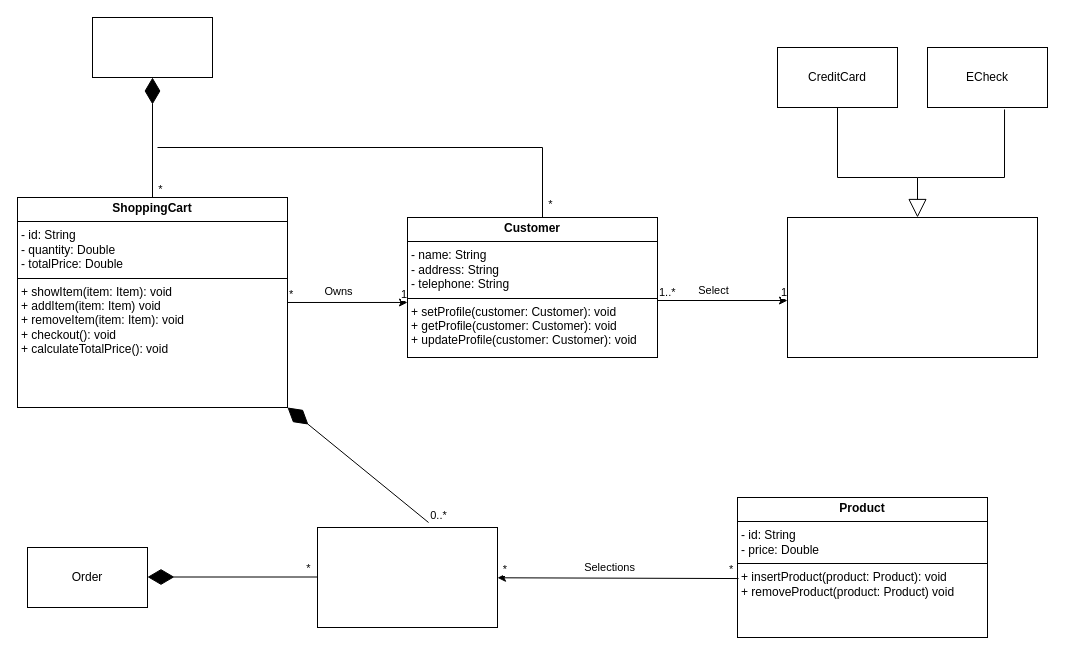
The diagram is 1065 pixels wide and 655 high, and some of its shapes have lost their labels. The shapes that lost their labels are listed below. From the top down, each one's centre as x and y in pixels, then its label:
[152,47]: ShoppingProcess
[912,287]: Payment - date: Date + getPaymentInfo(): void
[407,577]: CartItem - quantity: int - unitPrice: Double + calcPrice(): void
